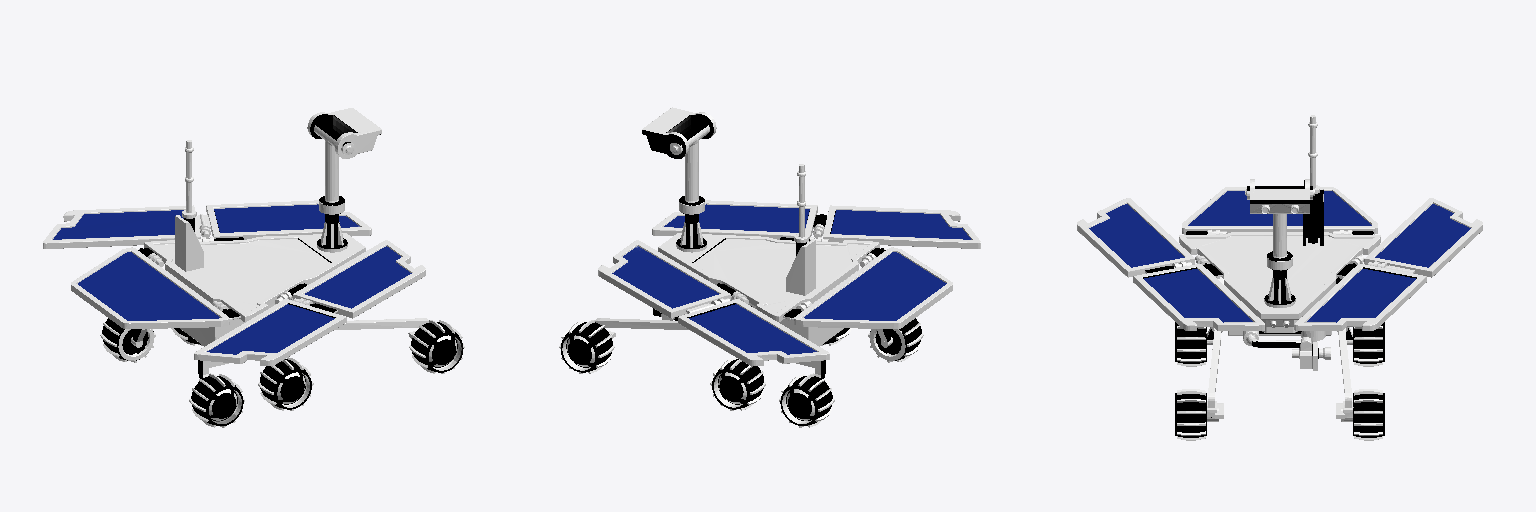
3 renders of one model, left to right at view 1: azimuth 30°, elevation 25°; view 2: azimuth 150°, elevation 25°; view 3: azimuth 270°, elevation 25°, orthographic.
Visible parts, largest first — view 1: 17247_Mars_Exploratory_Rover_v1; view 2: 17247_Mars_Exploratory_Rover_v1; view 3: 17247_Mars_Exploratory_Rover_v1.
Part boxes in pixels (left/top/right/bottom): 17247_Mars_Exploratory_Rover_v1: left=43, top=108, right=464, bottom=427; 17247_Mars_Exploratory_Rover_v1: left=559, top=107, right=980, bottom=427; 17247_Mars_Exploratory_Rover_v1: left=1077, top=115, right=1482, bottom=440.
Bounding box in the file's own units: 2.3 × 1.6 × 2.55.
1 materials, 1 textured.